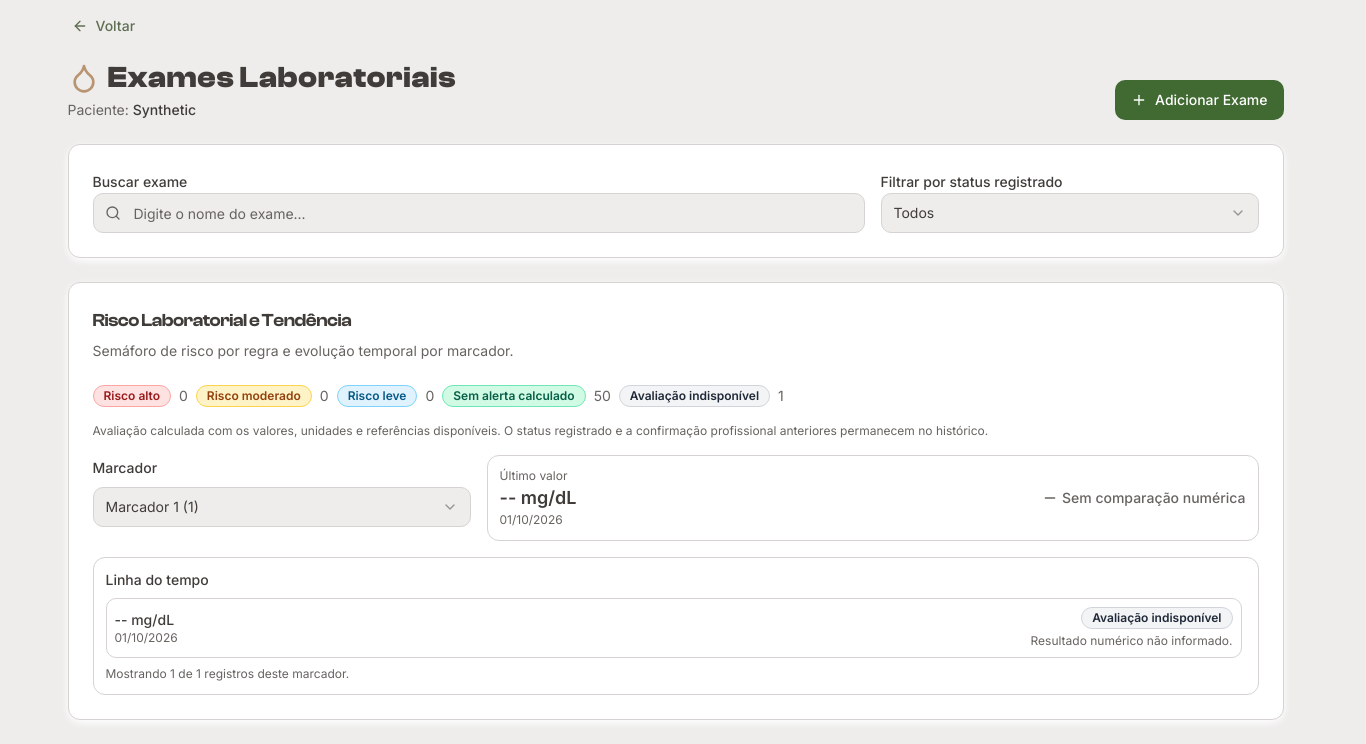
Test case: laboratory page consumer contract › distinguishes unavailable evaluation and searches the entire loaded history beyond page 50
The image size is (1366, 744).
Expected: the text "01/10/2026" below "Último valor" is shown, [500,512,563,527]
Expected: the text "Avaliação indisponível" next to "50" is shown, [630,388,759,403]
Type "Marcador 51" into the field labelled "Buscar exame".
click(478, 213); type("Marcador 51")  # box [92,193,864,233]
(page scrolled)
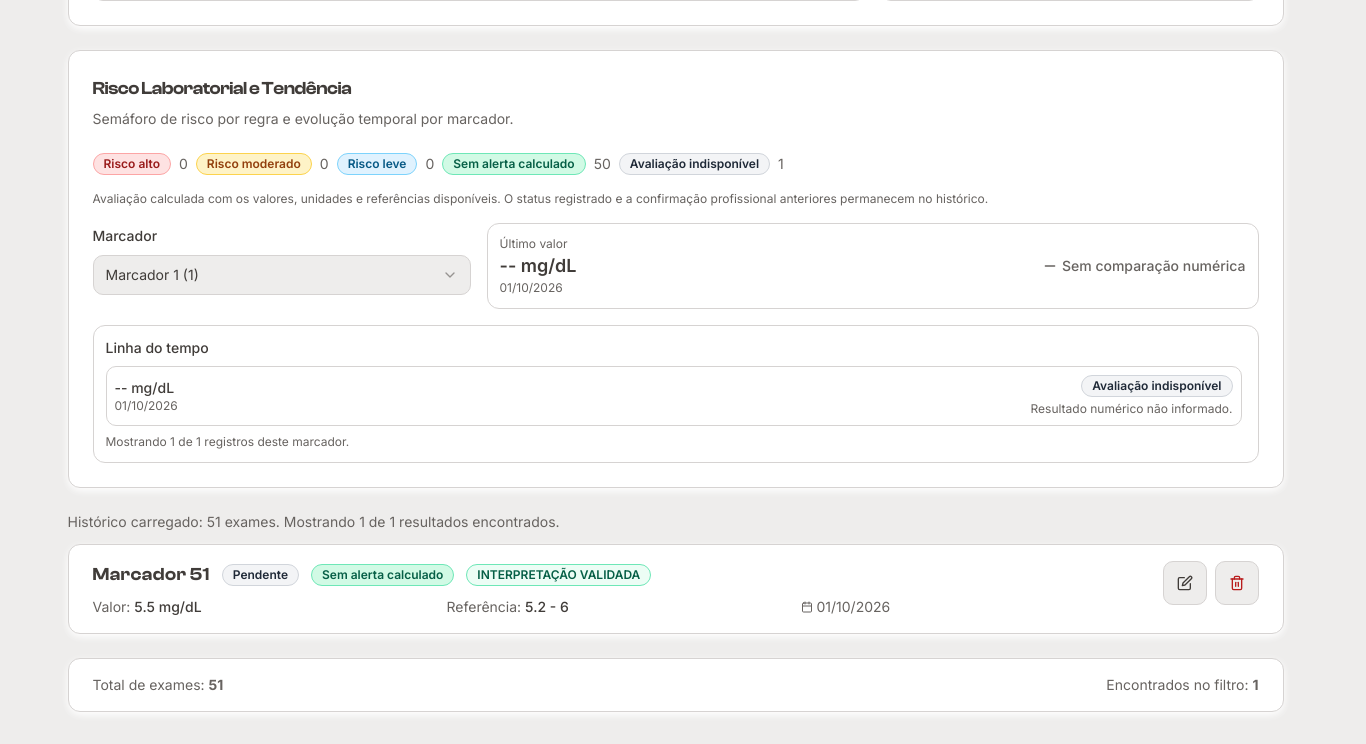
Expected: the heading "Marcador 51" is shown, [92,561,210,589]
Expected: the text "Mostrando 1 de 1 resultados encontrados" is shown, [68,513,560,530]
